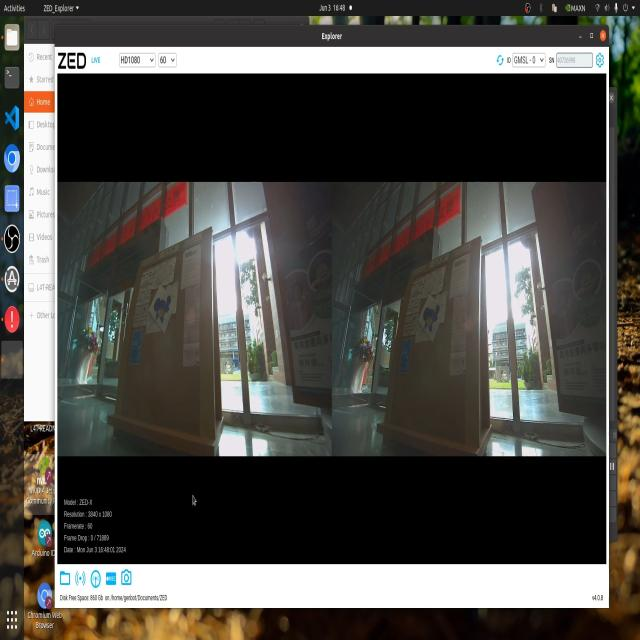blue: (147, 284, 179, 333), (420, 298, 447, 340)
